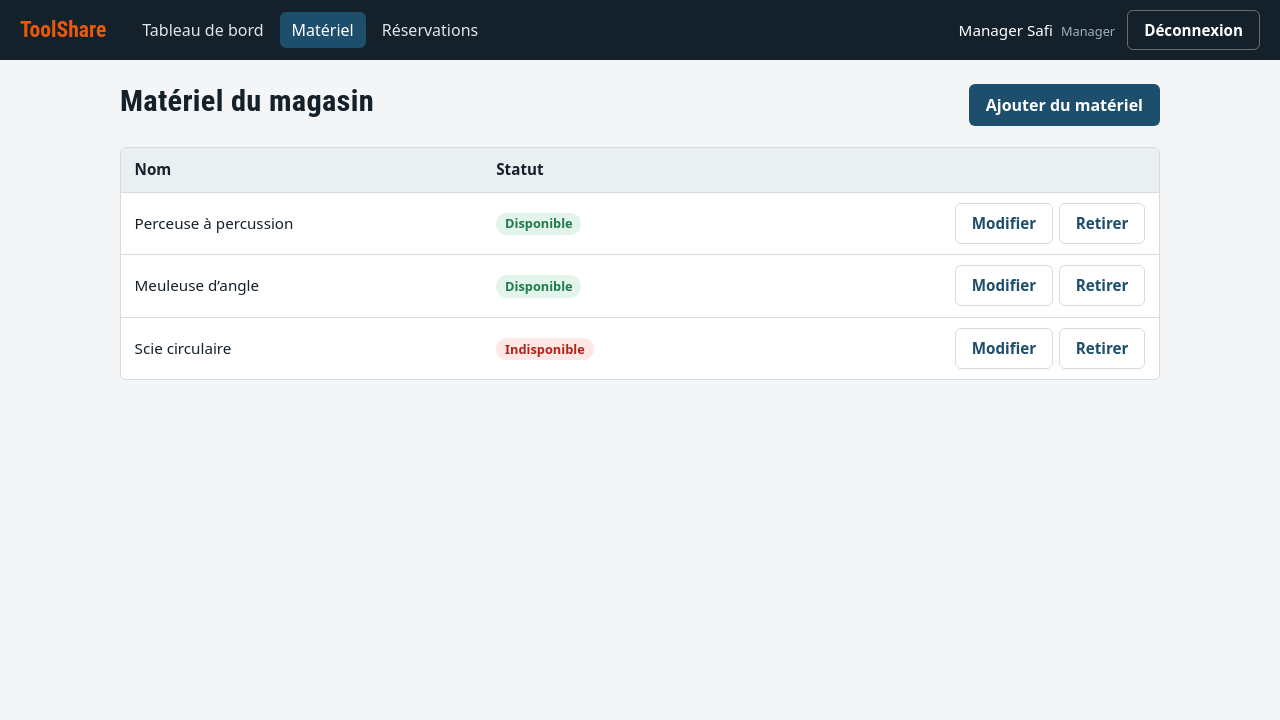
Test: equipment management › validates the form, then adds an item to the list
This screenshot has width=1280, height=720.
Check: the text "Perceuse à percussion" is shown, box [121,192,483,255]
Click the button "Ajouter du matériel" at (1064, 105), box [969,84,1160,126]
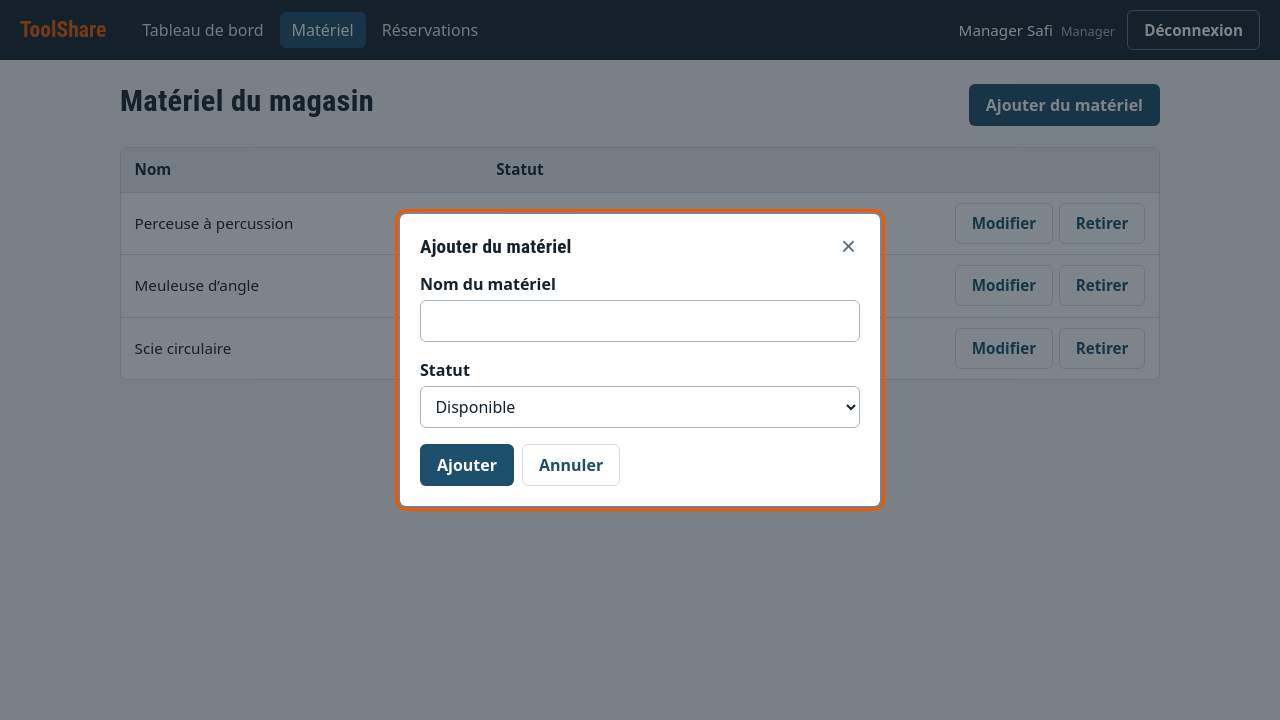
Click the button "Ajouter" at (467, 465), box [420,444,514,486]
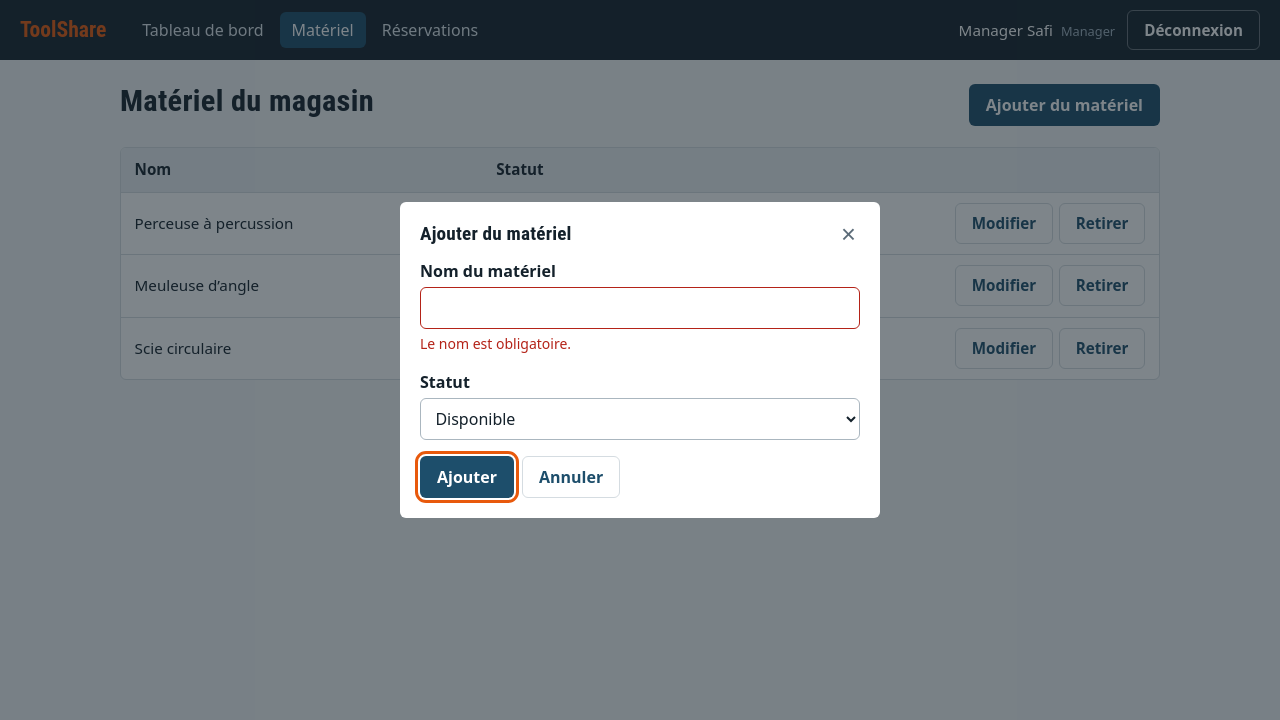
Check: the text "Le nom est obligatoire." is shown, box [420,334,571,353]
Type "Ponceuse" into the field labelled "Nom du matériel" at (640, 308), box [420,287,860,329]
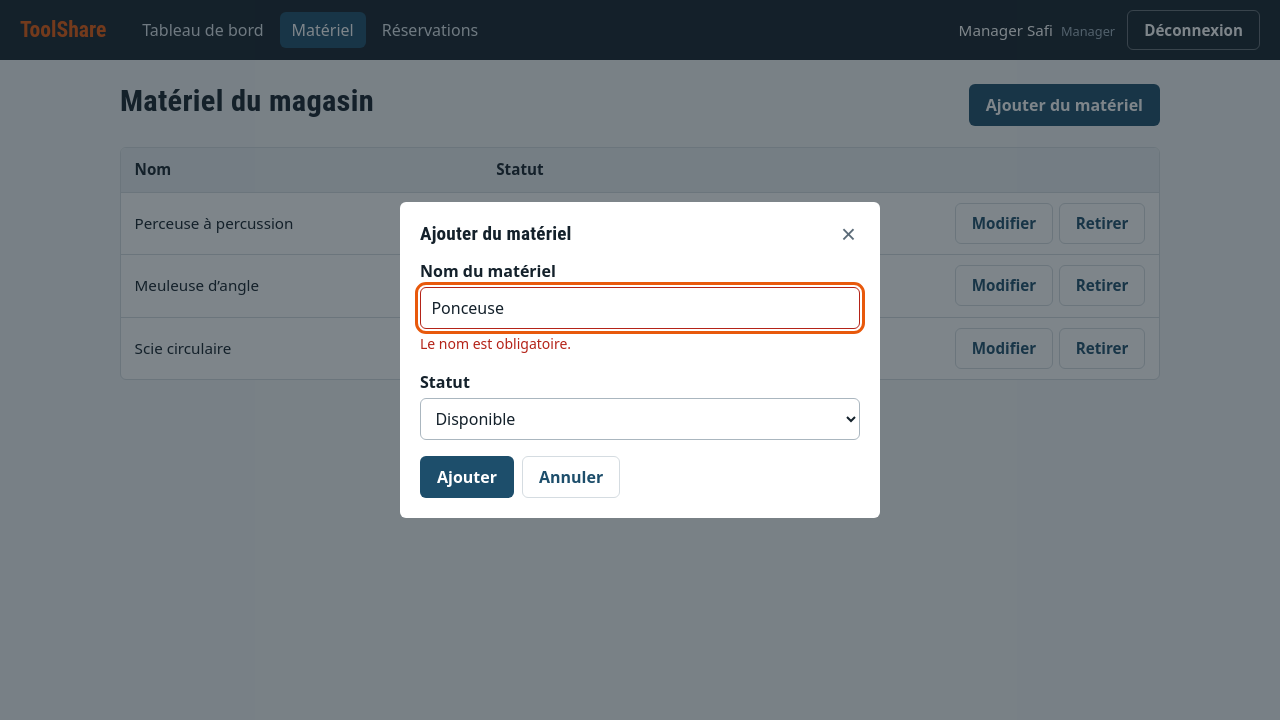
Click the button "Ajouter" at (467, 477), box [420,456,514,498]
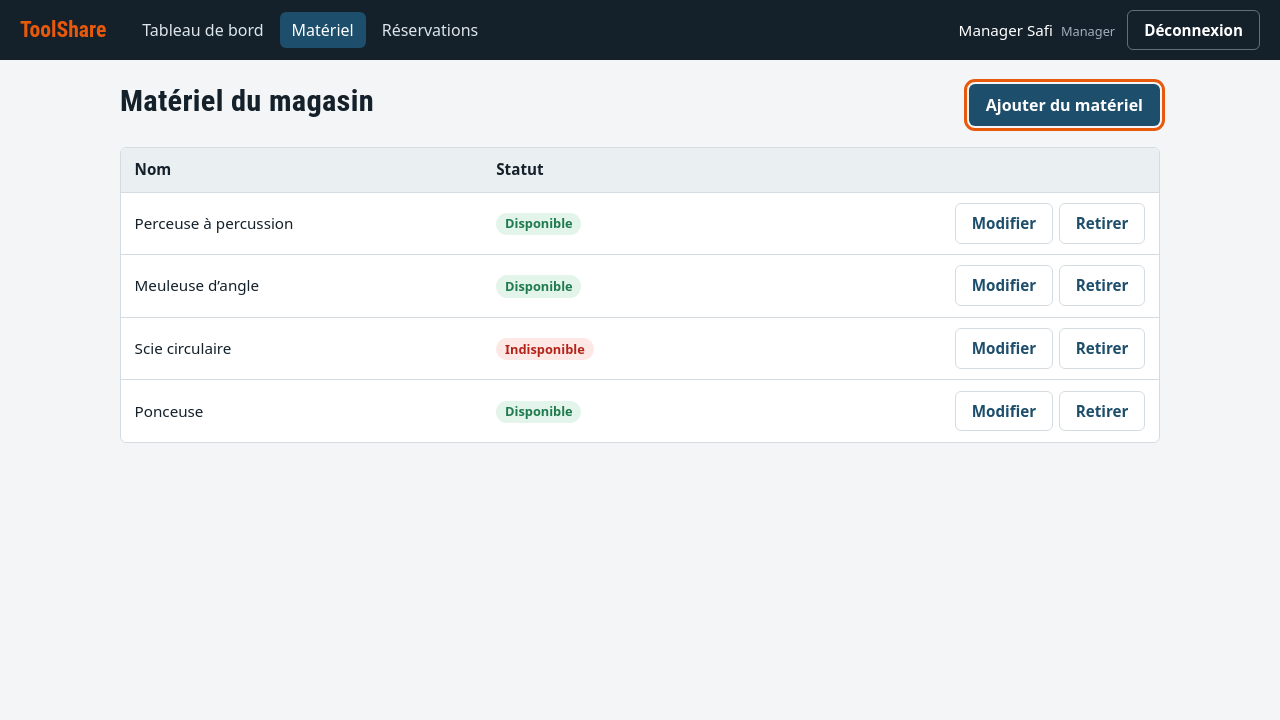
Check: the text "Ponceuse" is shown, box [121,380,483,442]
Check: the dialog is gone
